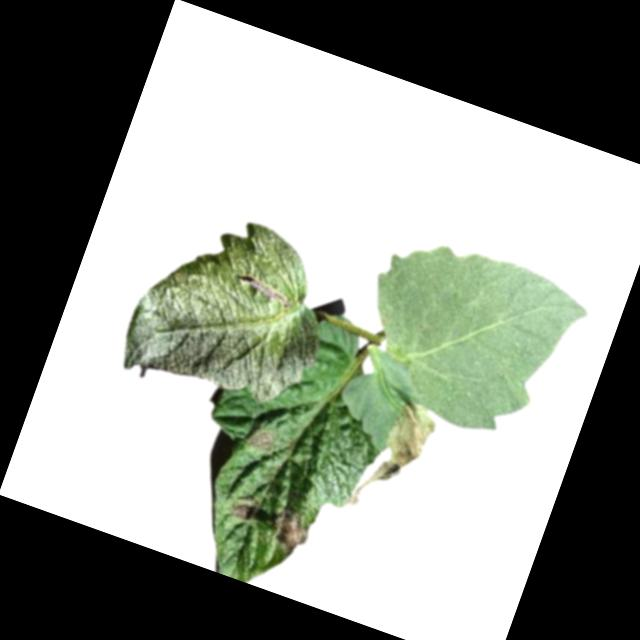Late_blight: (360, 396, 441, 512), (267, 502, 314, 558), (246, 424, 284, 458), (229, 494, 260, 524)
